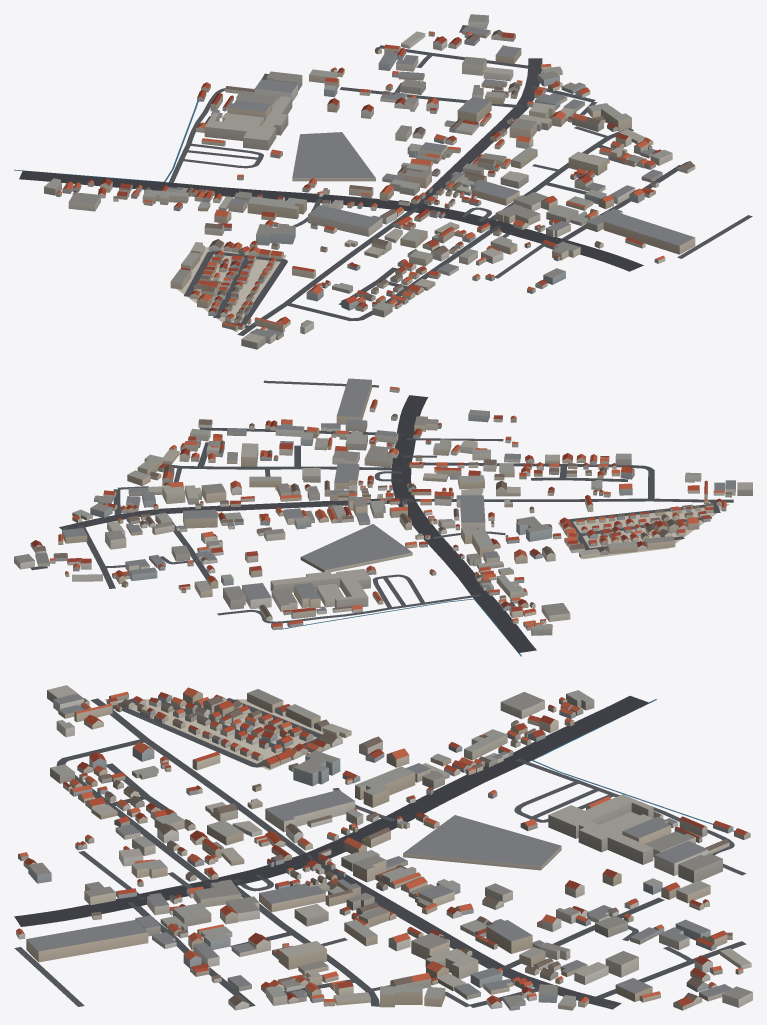
3 renders of one model, top to bottom at view 1: azimuth 30°, elevation 25°; view 2: azimuth 150°, elevation 25°; view 3: azimuth 270°, elevation 25°, orthographic. The views are drawn at different scales.
Visible parts, largest first — view 1: buildings_roofs, buildings_walls, roads, landuse; view 2: buildings_roofs, buildings_walls, roads, landuse; view 3: buildings_roofs, buildings_walls, roads, landuse.
Part boxes in pixels (box(x1,y1,x2,y2)): buildings_roofs: box(44, 14, 694, 342); buildings_walls: box(44, 16, 695, 349); roads: box(19, 25, 752, 335); landuse: box(177, 246, 286, 332); buildings_roofs: box(14, 378, 752, 629); buildings_walls: box(14, 381, 752, 635); roads: box(30, 380, 733, 652); landuse: box(558, 504, 729, 559); buildings_roofs: box(16, 685, 752, 1006); buildings_walls: box(16, 690, 752, 1010); roads: box(14, 696, 746, 1009); landuse: box(104, 699, 342, 770).
Size of the model in its own units: 516 by 9.67 by 508.
